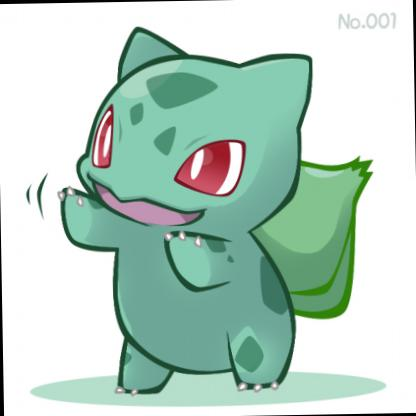Bulbasaur: (1, 1, 387, 416)
